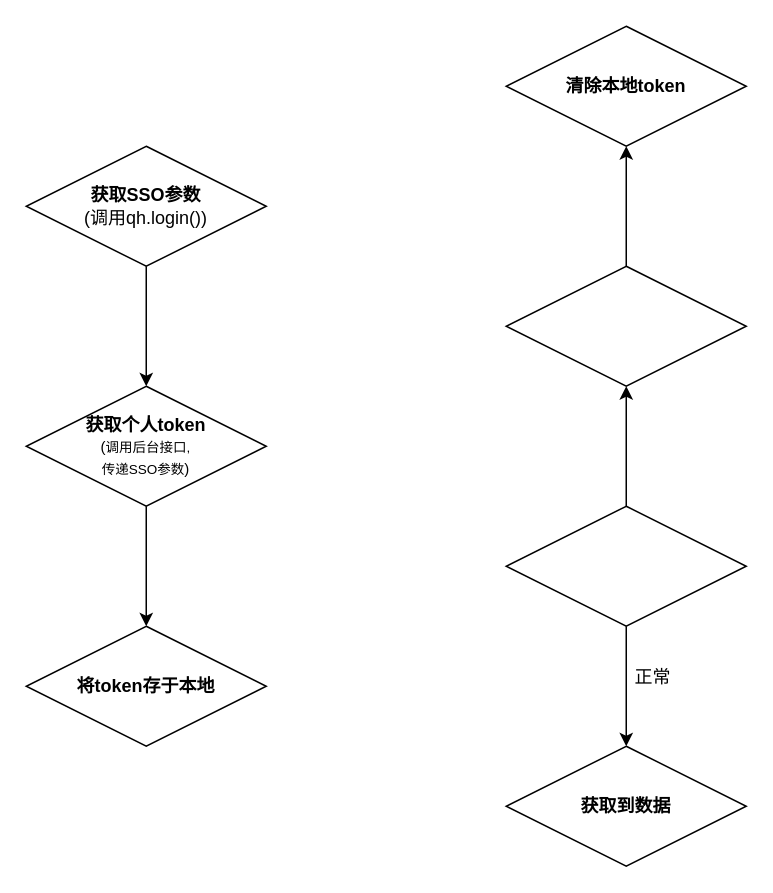
Image size: 773x893. Some labels were removed from this diagram. Each missing label, with the centre of its shape:
"接口请求 ( 携带首部字段 Authorization: `Bearer ${token } `)" goes at point (625, 565).
"接口返回401" goes at point (625, 325).
